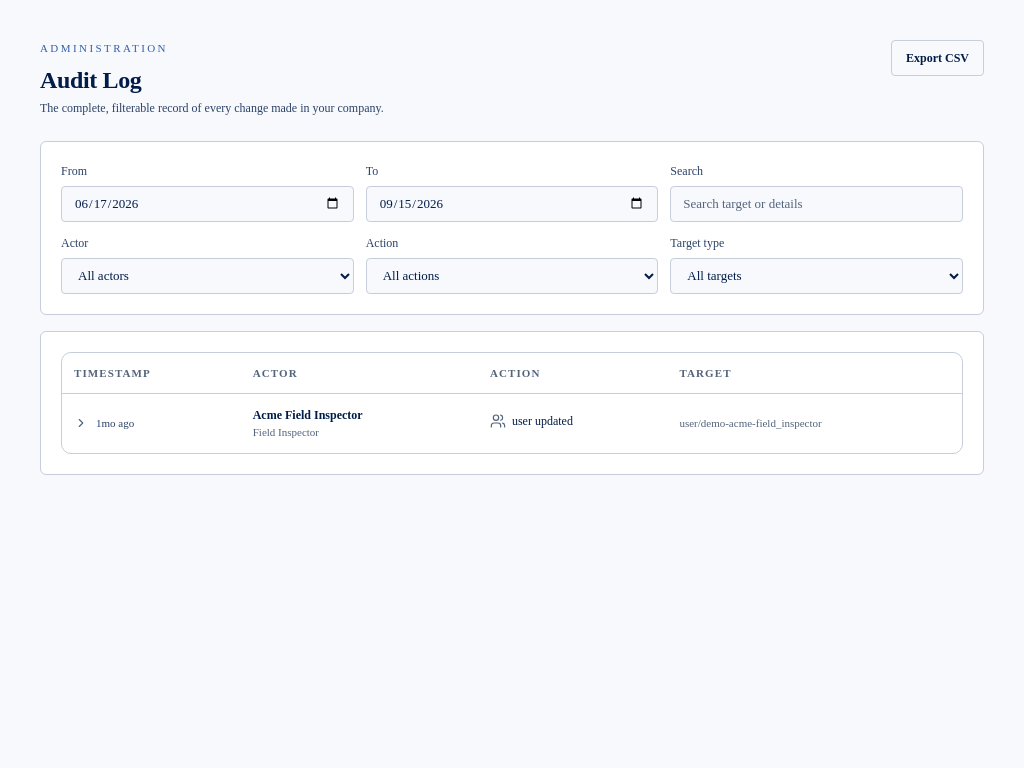
Scenario: audit log page › expands a row to reveal the before/after diff
Click the button "1mo ago" at (104, 423), box [74,415,134,432]
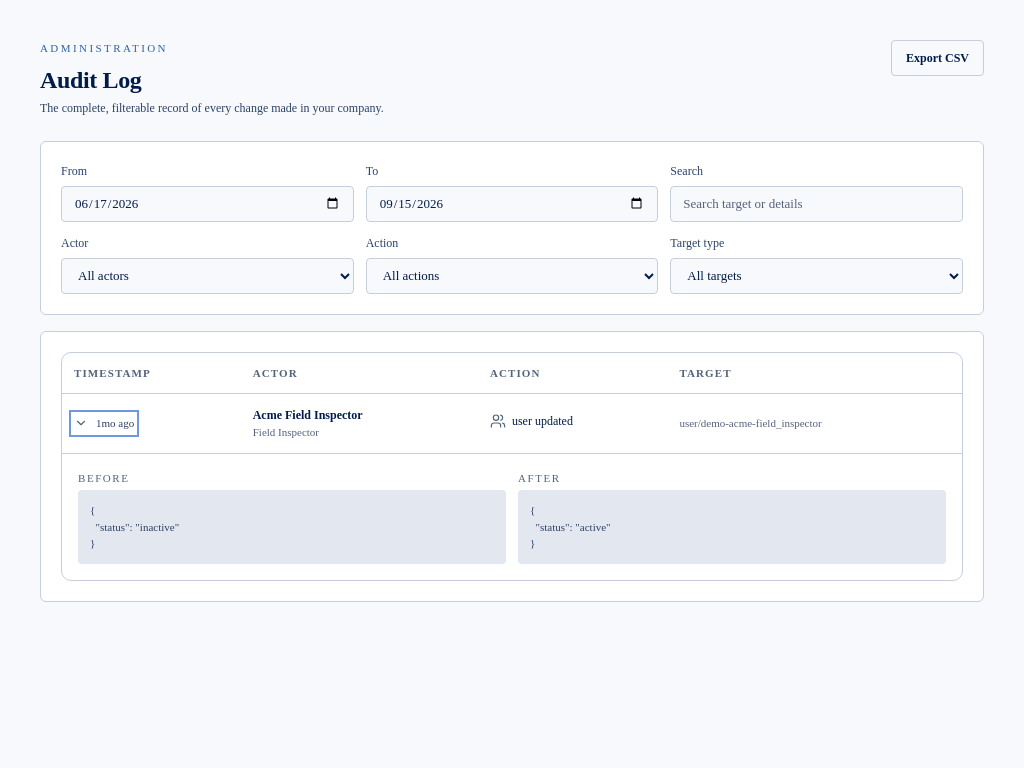
Check: the text "Before" is shown, box [78,472,129,484]
Check: the text "After" is shown, box [518,472,560,484]
Check: the text "{ \"status\": \"inactive\" }" is shown, box [78,490,506,564]
